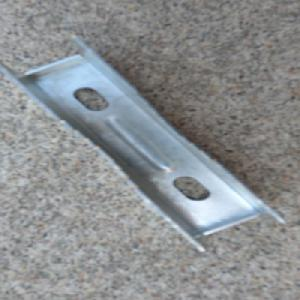ClampPart: (0, 33, 283, 251)
